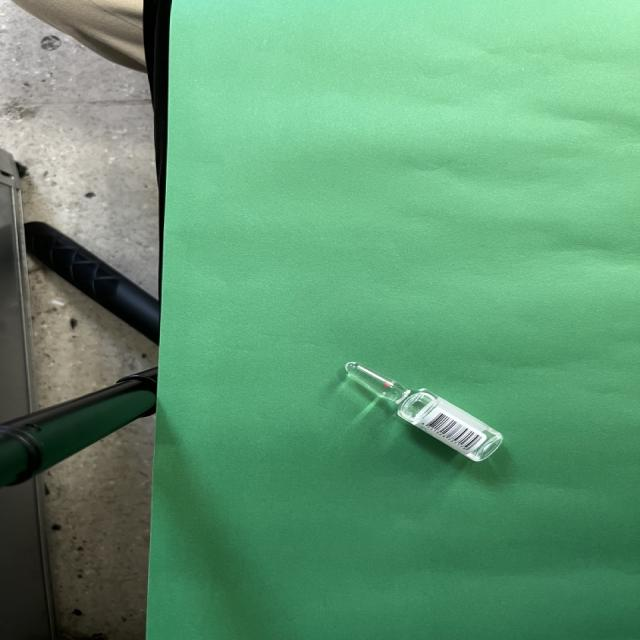Ampoules: (345, 362, 501, 460)
